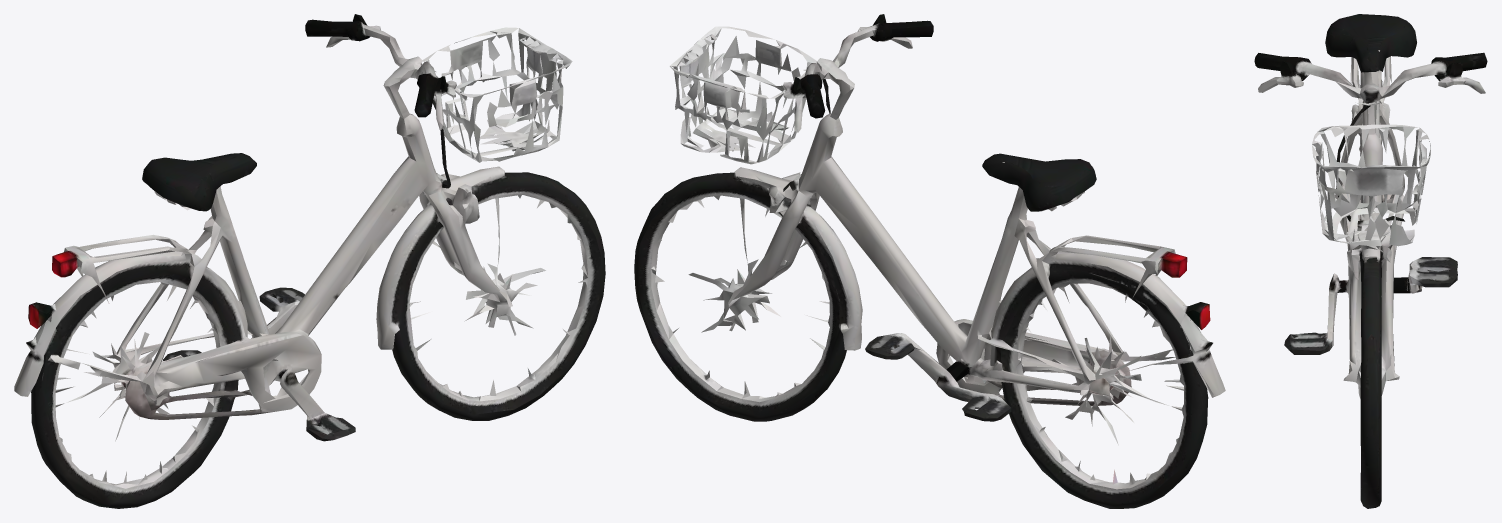
Rendered from bicycle.glb.
3 renders of one model, left to right at view 1: azimuth 30°, elevation 25°; view 2: azimuth 150°, elevation 25°; view 3: azimuth 270°, elevation 25°, orthographic.
Parts seen in each view (by area): view 1: bicycle; view 2: bicycle; view 3: bicycle.
Part boxes in pixels (x1,y1,x2,y2): bicycle: (14, 14, 605, 508); bicycle: (634, 14, 1225, 508); bicycle: (1254, 14, 1487, 508).
Bounding box in the file's own units: 1.63 × 1.05 × 0.5671.
Materials: 1 (1 with a texture image).
